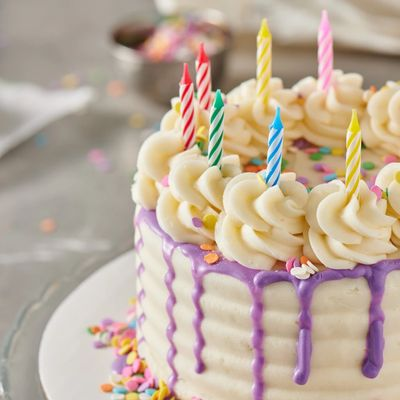sushi: (125, 4, 400, 399)
